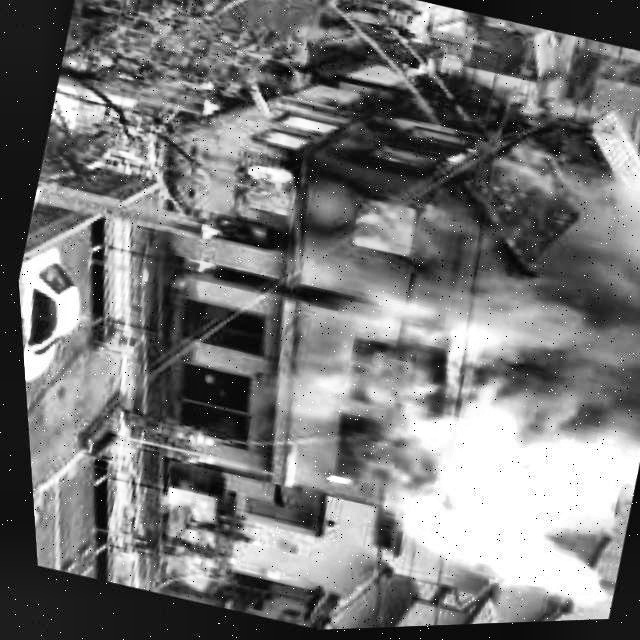Smoke: (343, 191, 421, 265), (202, 208, 275, 251), (273, 108, 338, 142), (254, 125, 309, 155), (169, 250, 214, 284)
